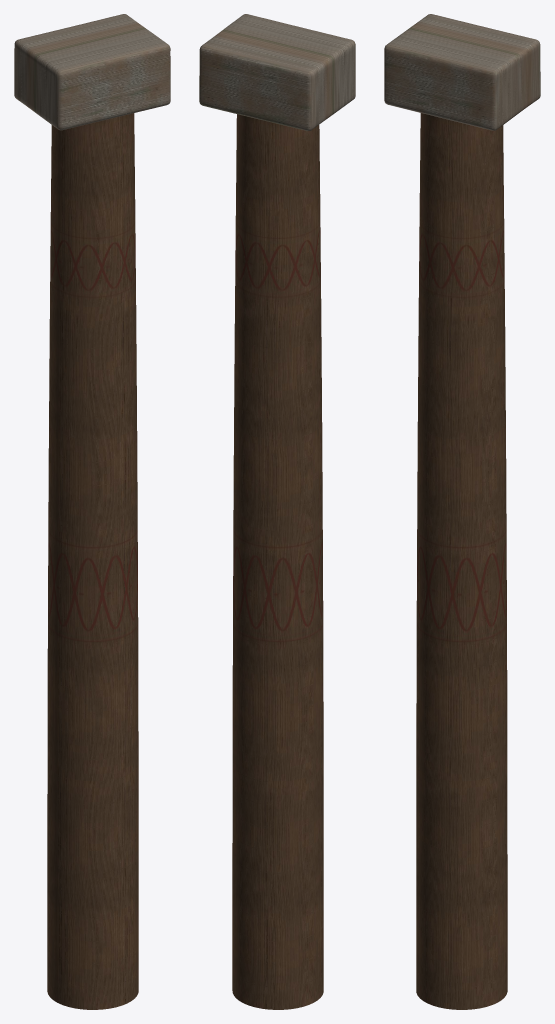
File: post_hall.glb
3 views of the same model, side by side, from view 1: azimuth 30°, elevation 25°; view 2: azimuth 150°, elevation 25°; view 3: azimuth 330°, elevation 25° (orthographic).
Parts seen in each view (by area): view 1: post_hall; view 2: post_hall; view 3: post_hall.
Part boxes in pixels (x1,y1,x2,y2): post_hall: (14, 14, 170, 1009); post_hall: (199, 14, 355, 1009); post_hall: (384, 14, 540, 1009).
Size of the model in its own units: 0.5 by 4 by 0.3585.
1 material, 1 textured.
